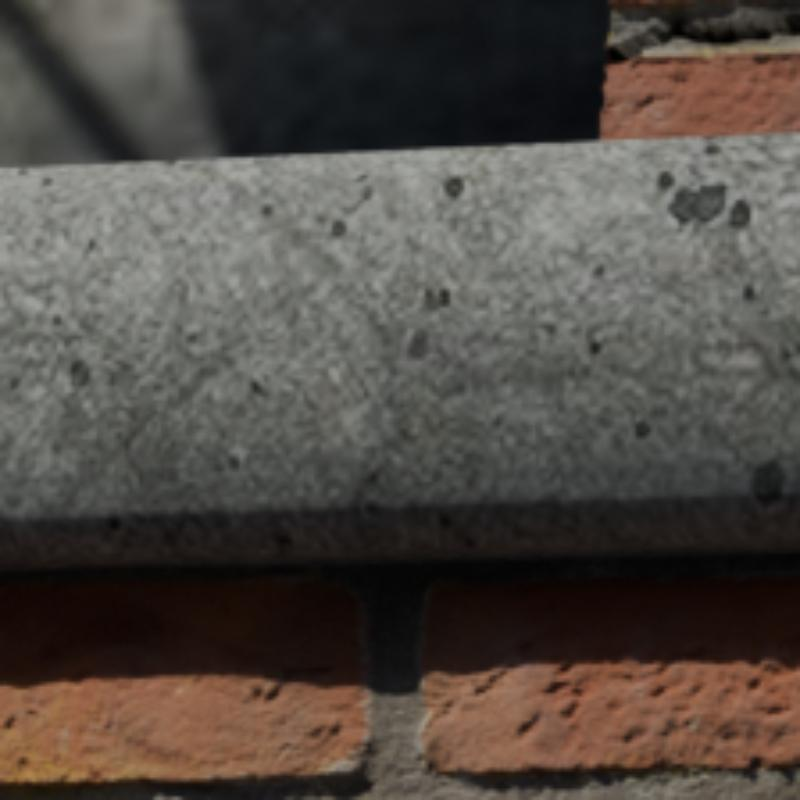pothole: (610, 16, 796, 62)
